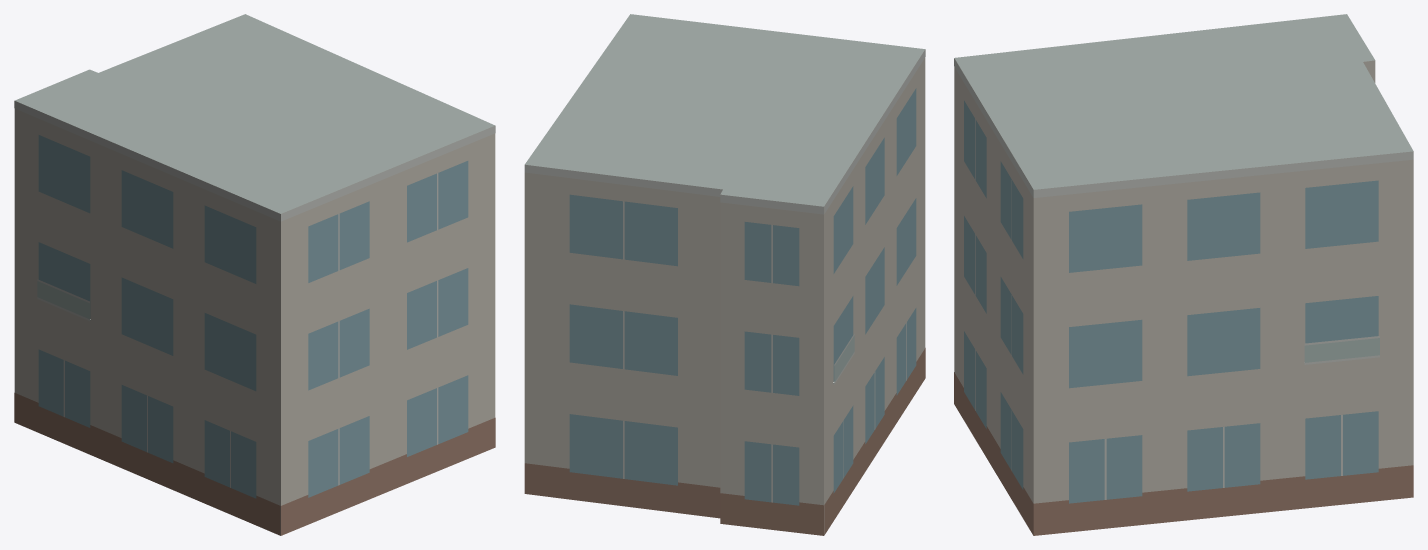
File: survey-upis-32884979.glb
The picture shows the model from 3 angles, left to right: view 1: azimuth 30°, elevation 25°; view 2: azimuth 150°, elevation 25°; view 3: azimuth 270°, elevation 25°; orthographic projection. The views are drawn at different scales.
Parts seen in each view (by area): view 1: survey-upis-32884979.tmp; view 2: survey-upis-32884979.tmp; view 3: survey-upis-32884979.tmp.
Part boxes in pixels (bbox=[...]): survey-upis-32884979.tmp: bbox=[14, 14, 495, 535]; survey-upis-32884979.tmp: bbox=[524, 14, 925, 535]; survey-upis-32884979.tmp: bbox=[954, 14, 1413, 535].
Bounding box in the file's own units: 11.13 × 10.2 × 12.29.
